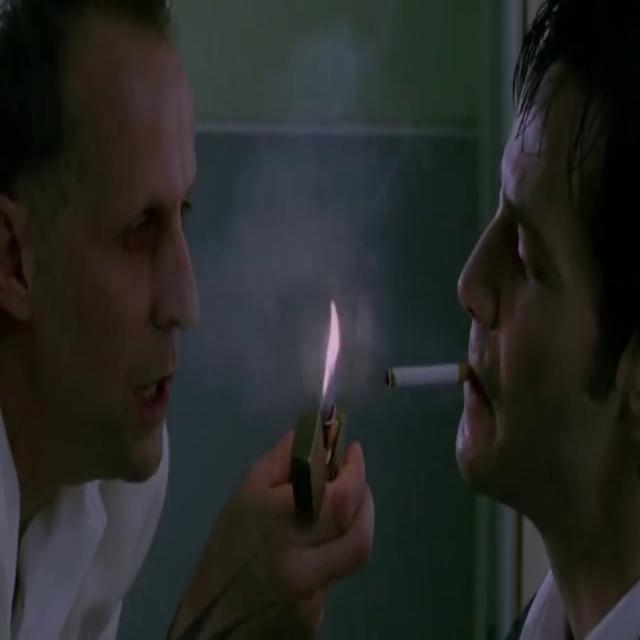Smooking: (382, 346, 472, 412)
